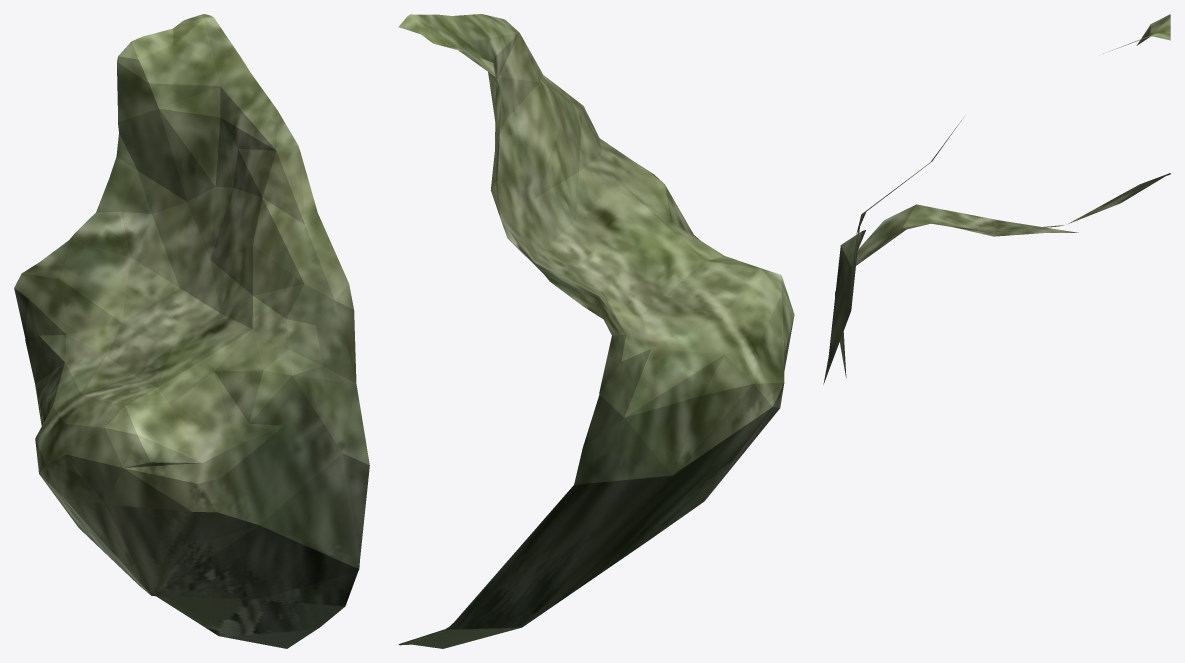
3 renders of one model, left to right at view 1: azimuth 30°, elevation 25°; view 2: azimuth 150°, elevation 25°; view 3: azimuth 270°, elevation 25°, orthographic. The views are drawn at different scales.
Size of the model in its own units: 1.02 by 2.29 by 1.18.
Materials: 1 (1 with a texture image).
